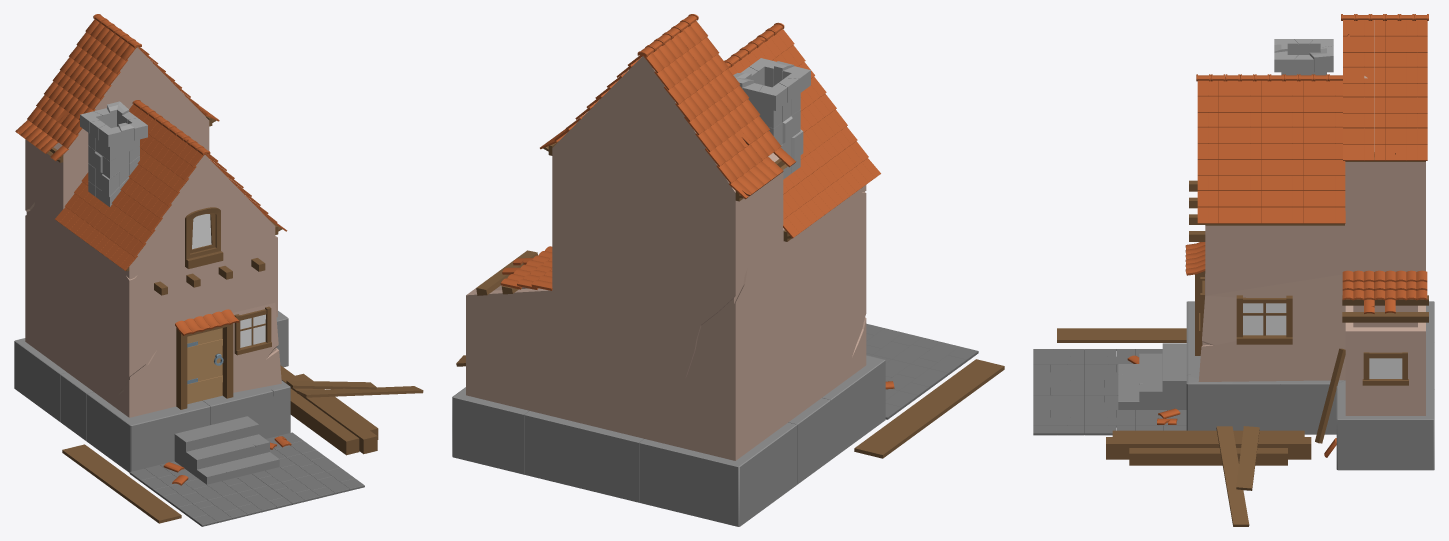
File: Old House.fbx
The picture shows the model from 3 angles, left to right: view 1: azimuth 30°, elevation 25°; view 2: azimuth 150°, elevation 25°; view 3: azimuth 270°, elevation 25°; orthographic projection. The views are drawn at different scales.
Visible parts, largest first — view 1: Cube, Cube.001, Plane.009, Plane, Plane.018, Cube.002, Cube.018, Cube.032, Cube.010, Cube.009, Cube.022, Cube.007 (+10 smaller); view 2: Cube, Cube.001, Plane.018, Plane.009, Plane, Cube.018, Cube.032, Plane.014, Plane.008, Plane.003; view 3: Cube, Plane.009, Cube.001, Plane.018, Plane, Cube.002, Plane.014, Cube.021, Cube.020, Cube.018, Cube.032, Cube.023 (+13 smaller).
Boxes of the visible parts, box(x1,y1,x2,y2) form: Cube: box(25, 47, 281, 417); Cube.001: box(14, 311, 290, 472); Plane.009: box(55, 104, 287, 270); Plane: box(129, 432, 364, 526); Plane.018: box(15, 19, 219, 161); Cube.002: box(174, 416, 279, 484); Cube.018: box(80, 101, 147, 206); Cube.032: box(62, 444, 181, 523); Cube.010: box(187, 328, 222, 404); Cube.009: box(176, 323, 233, 409); Cube.022: box(290, 388, 359, 455); Cube.007: box(185, 207, 223, 268); Cube: box(466, 56, 866, 460); Cube.001: box(452, 355, 885, 526); Plane.018: box(540, 21, 795, 199); Plane.009: box(728, 29, 880, 238); Plane: box(866, 323, 978, 419); Cube.018: box(733, 58, 810, 179); Cube.032: box(854, 359, 1004, 458); Plane.014: box(500, 246, 552, 290); Plane.008: box(724, 22, 784, 68); Plane.003: box(637, 14, 698, 57); Cube: box(1198, 20, 1425, 415); Plane.009: box(1197, 76, 1345, 223); Cube.001: box(1186, 301, 1434, 470); Plane.018: box(1343, 20, 1427, 160); Plane: box(1033, 349, 1186, 435); Cube.002: box(1118, 343, 1186, 409); Plane.014: box(1342, 270, 1427, 300); Cube.021: box(1106, 437, 1311, 459); Cube.020: box(1129, 448, 1287, 465); Cube.018: box(1274, 39, 1333, 75); Cube.032: box(1057, 328, 1186, 342); Cube.023: box(1216, 426, 1249, 526).
Size of the model in its own units: 1519 by 1543 by 1433.
